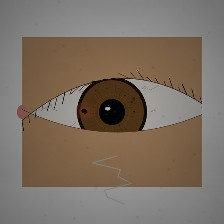foreign_body_visible: (69, 99, 100, 124)
